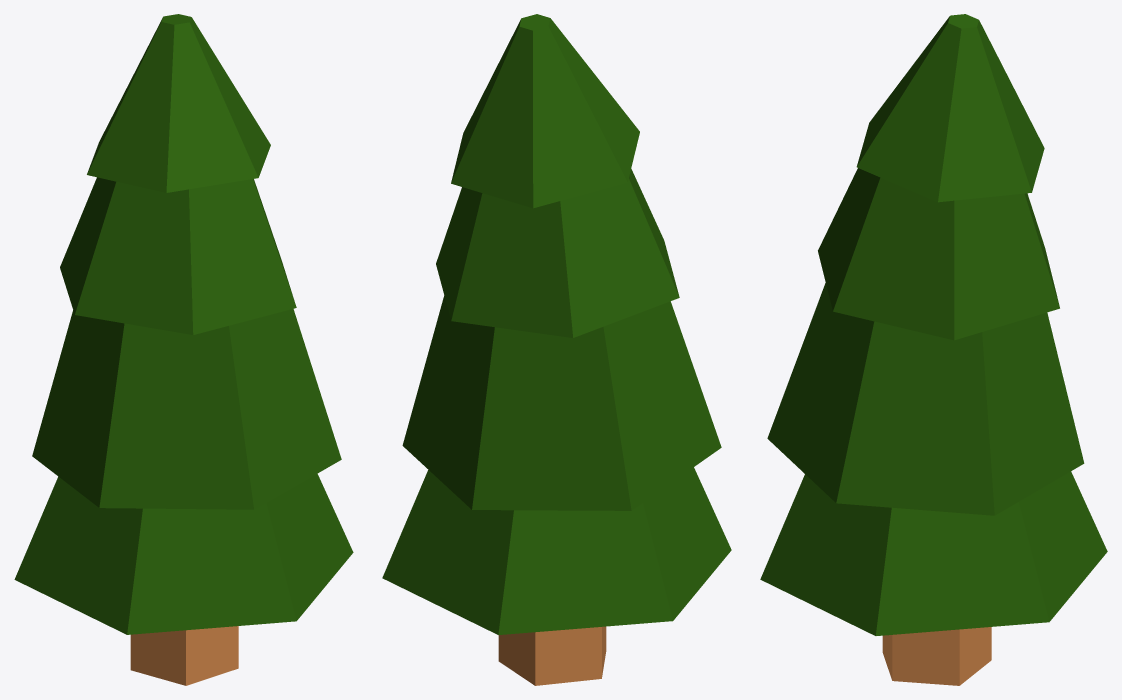
File: Tree7.fbx
The picture shows the model from 3 angles, left to right: view 1: azimuth 30°, elevation 25°; view 2: azimuth 150°, elevation 25°; view 3: azimuth 270°, elevation 25°; orthographic projection. The views are drawn at different scales.
Parts seen in each view (by area): view 1: Cylinder.004, Cylinder; view 2: Cylinder.004, Cylinder; view 3: Cylinder.004, Cylinder.
Part boxes in pixels (x1=…): Cylinder.004: x1=14, y1=14, x2=353, y2=634; Cylinder: x1=130, y1=626, x2=238, y2=685; Cylinder.004: x1=382, y1=14, x2=731, y2=634; Cylinder: x1=498, y1=626, x2=606, y2=685; Cylinder.004: x1=760, y1=14, x2=1107, y2=635; Cylinder: x1=882, y1=627, x2=991, y2=685.
Size of the model in its own units: 449 by 960 by 467.
